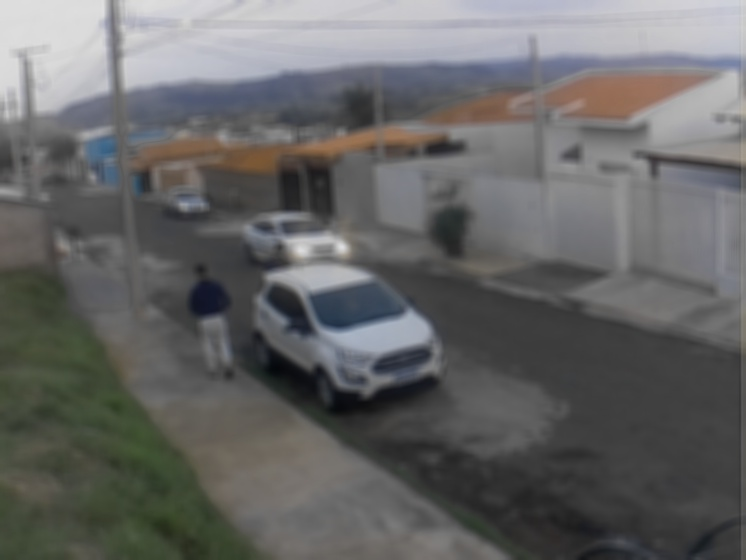person: (187, 263, 236, 381), (257, 241, 292, 281)
